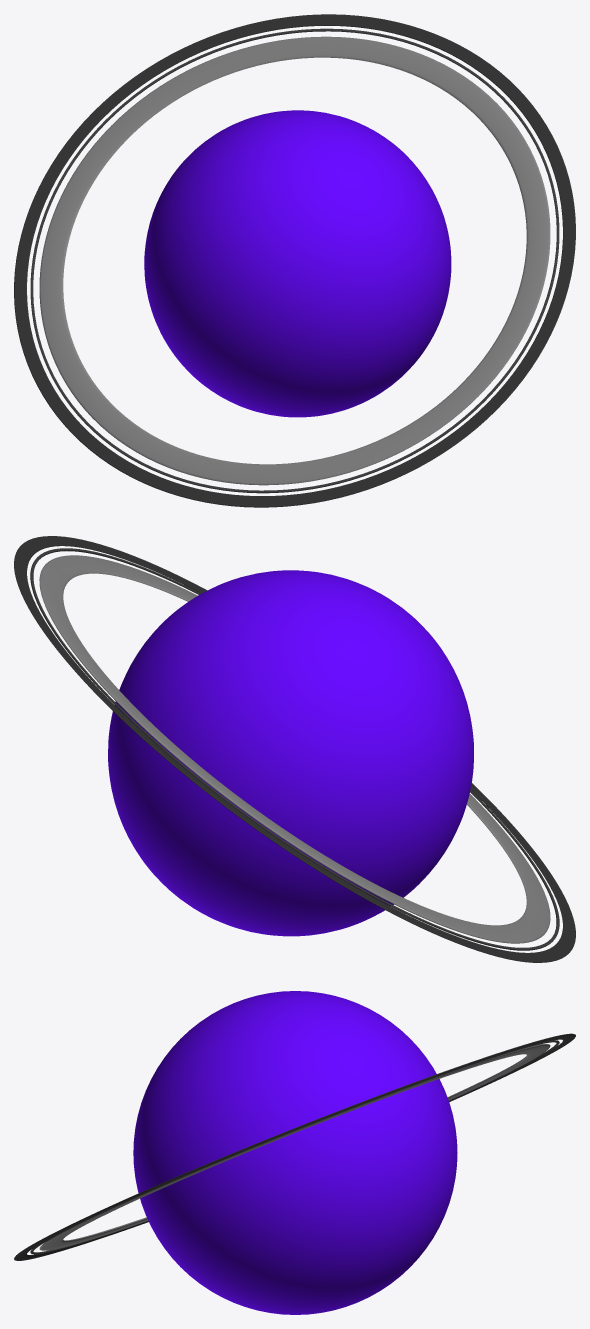
File: planet.gltf
3 views of the same model, one above another, from view 1: azimuth 30°, elevation 25°; view 2: azimuth 150°, elevation 25°; view 3: azimuth 270°, elevation 25° (orthographic). The views are drawn at different scales.
Visible parts, largest first — view 1: _switchable, Ring 1, Ring 3, Ring 2; view 2: _switchable, Ring 1, Ring 3, Ring 2; view 3: _switchable, Ring 1, Ring 3, Ring 2.
Boxes of the visible parts, x1,y1,x2,y2 form: _switchable: (144, 110, 451, 417); Ring 1: (39, 36, 550, 485); Ring 3: (14, 14, 575, 507); Ring 2: (30, 28, 559, 493); _switchable: (108, 570, 473, 936); Ring 1: (39, 555, 550, 943); Ring 3: (14, 536, 575, 962); Ring 2: (30, 548, 559, 950); _switchable: (133, 991, 457, 1314); Ring 1: (39, 1044, 550, 1250); Ring 3: (14, 1033, 575, 1260); Ring 2: (30, 1040, 559, 1254).
Bounding box in the file's own units: 0.2865 × 0.1849 × 0.297.
